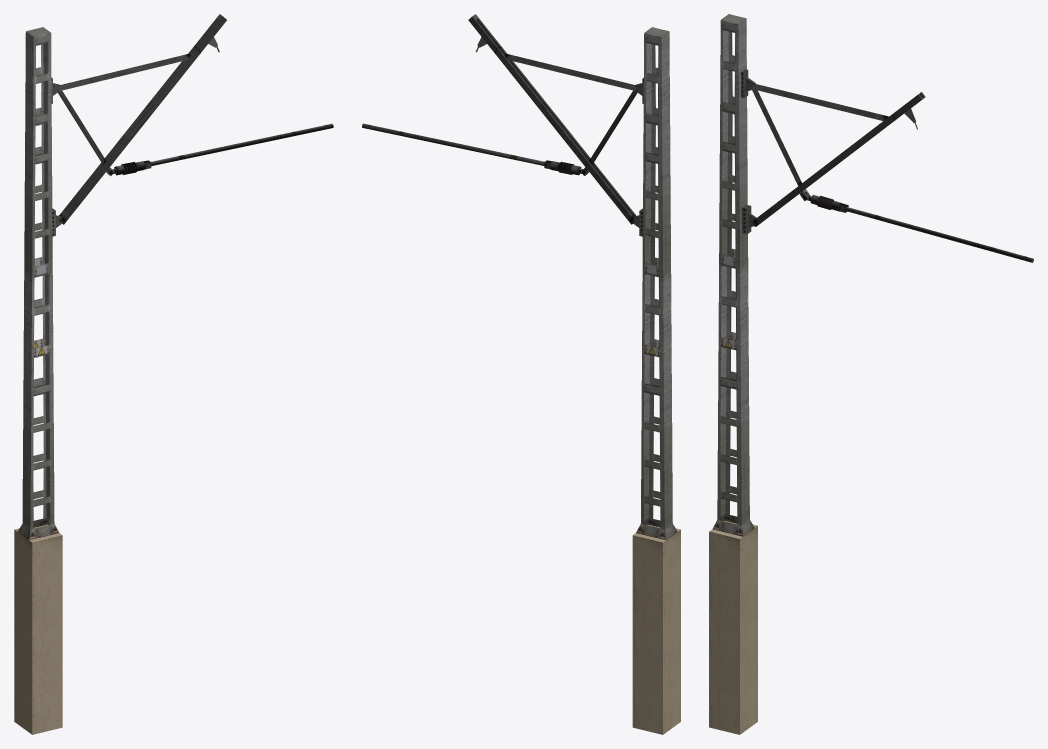
The model's file is opk1l2.gltf.
3 renders of one model, left to right at view 1: azimuth 30°, elevation 25°; view 2: azimuth 150°, elevation 25°; view 3: azimuth 330°, elevation 25°, orthographic.
Bounding box in the file's own units: 5.98 × 12.81 × 0.6.
Materials: 1 (1 with a texture image).
